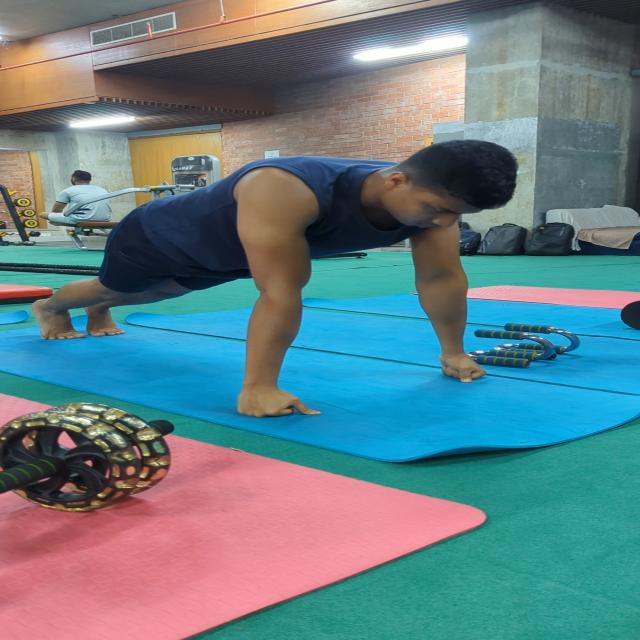Normal_PushUps: (29, 133, 516, 425)
